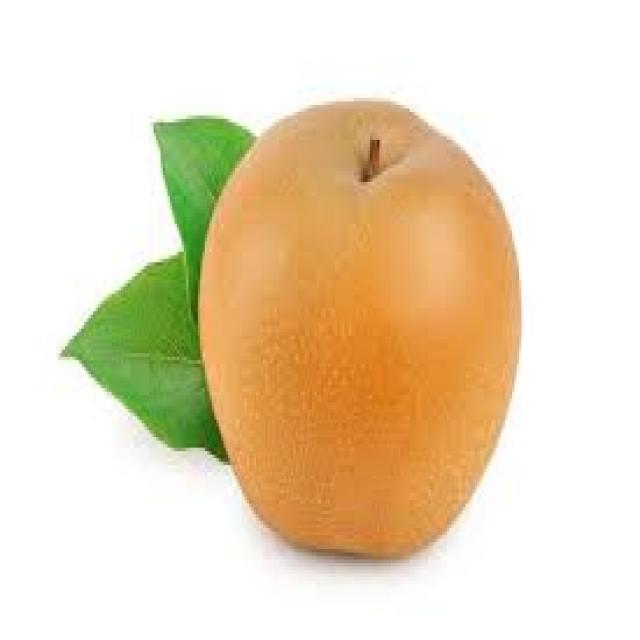pear: (200, 101, 521, 554)
